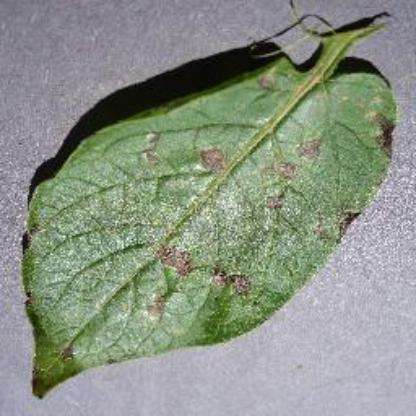Early-Blight: (21, 16, 397, 396)
